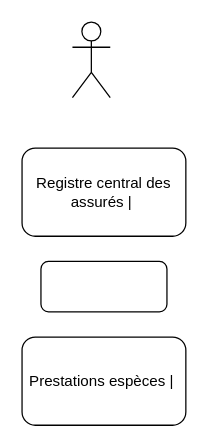
Image size: 208x447. Some labels were removed from this diagram. Each missing label, with the centre of its shape:
"CdC" belongs at point (90, 59).
"Syst # AVS" belongs at point (103, 286).
